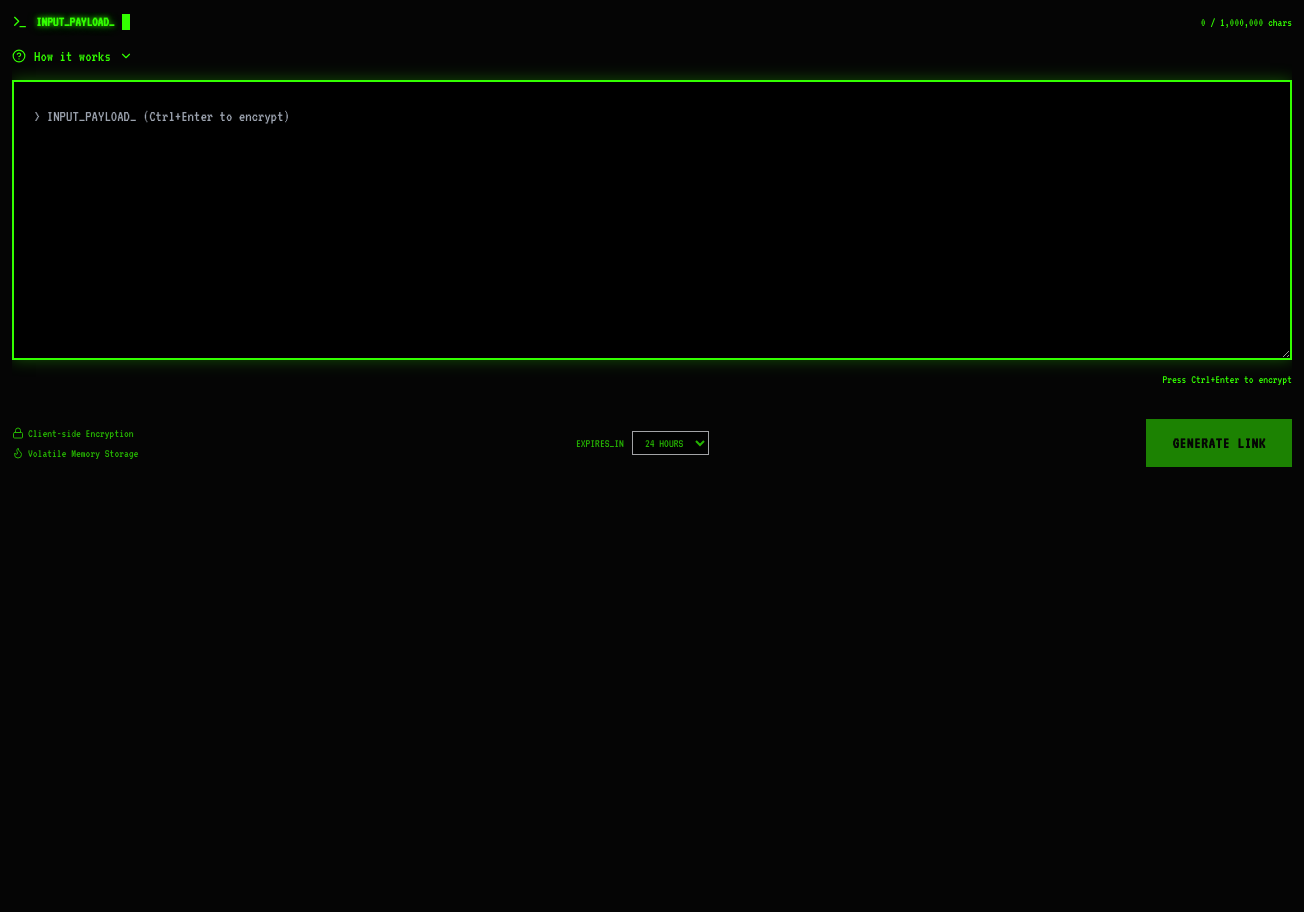
Test: CreateView › should display help section when toggle is clicked
The width and height of the screenshot is (1304, 912).
Click the button "How it works" at (72, 56), box [12, 48, 1292, 64]
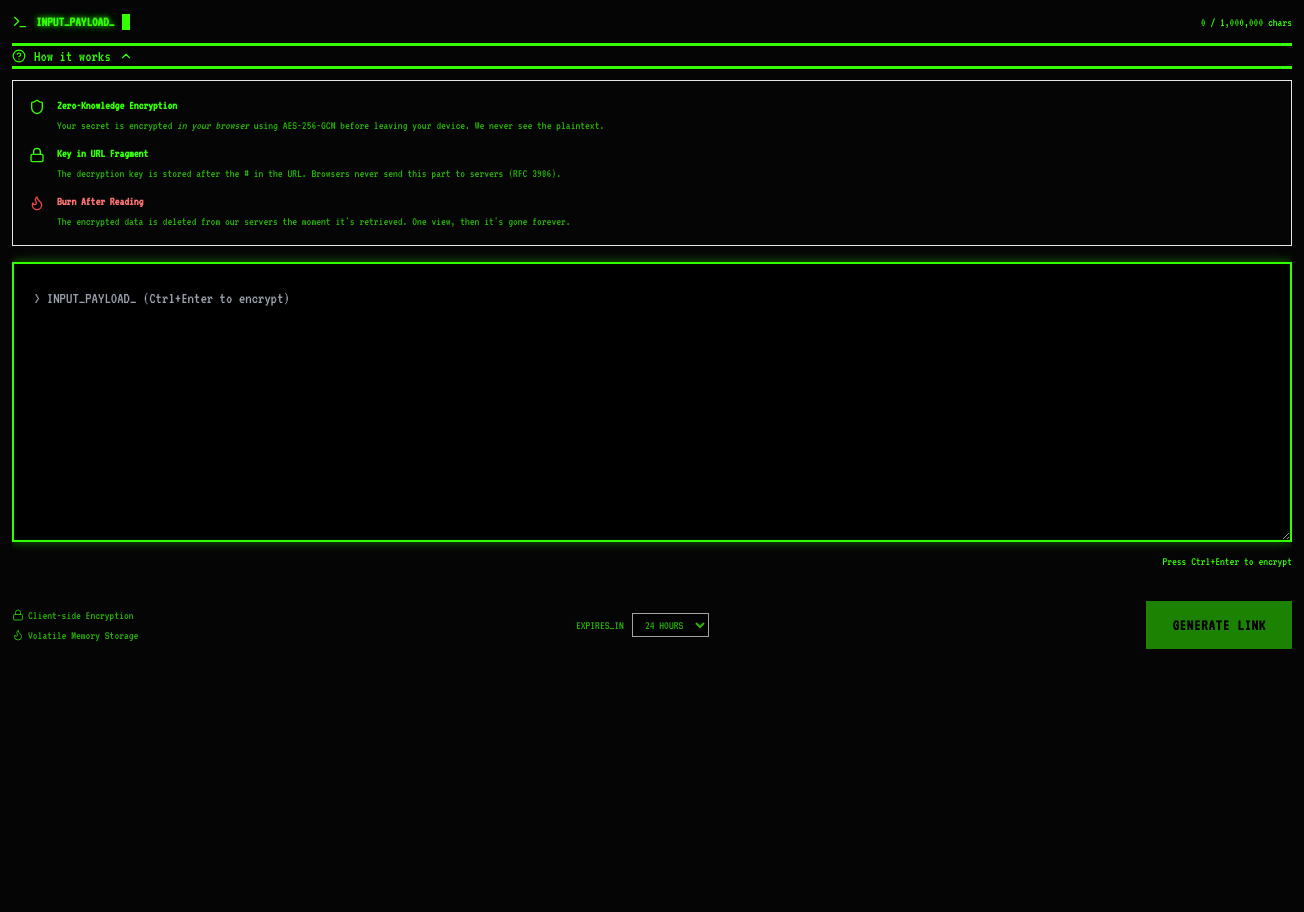
Now the text "Zero-Knowledge Encryption" is shown, box [57, 99, 177, 111]
